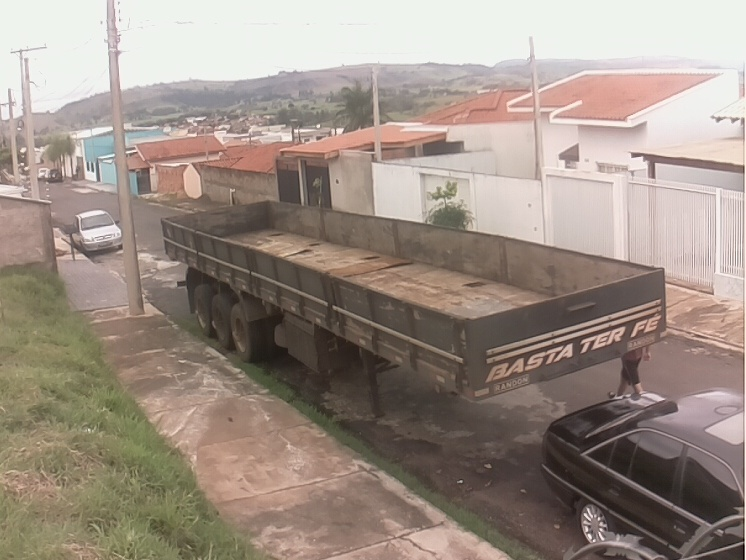person: (605, 341, 654, 400)
